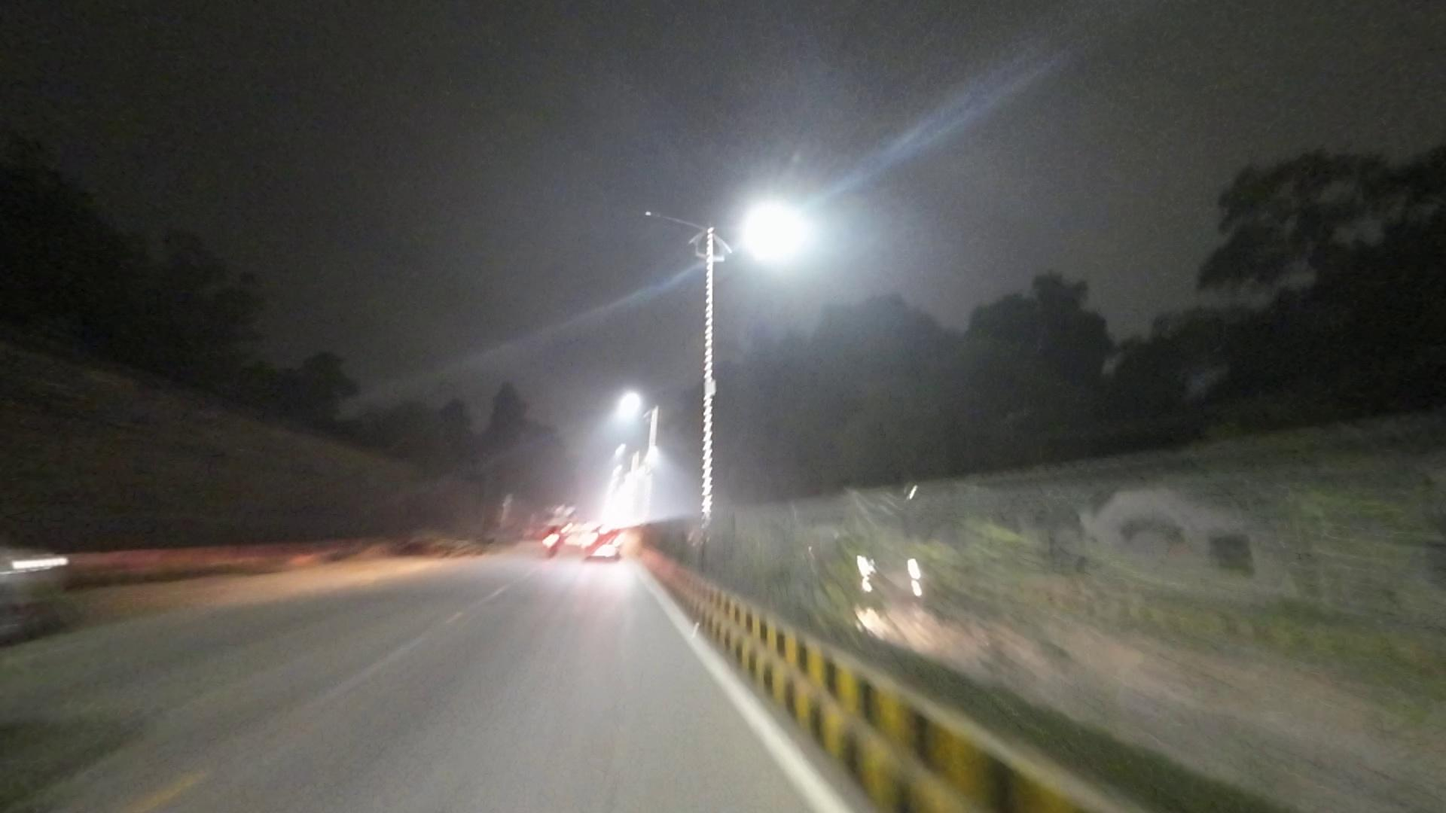streetlight: (640, 206, 696, 225)
